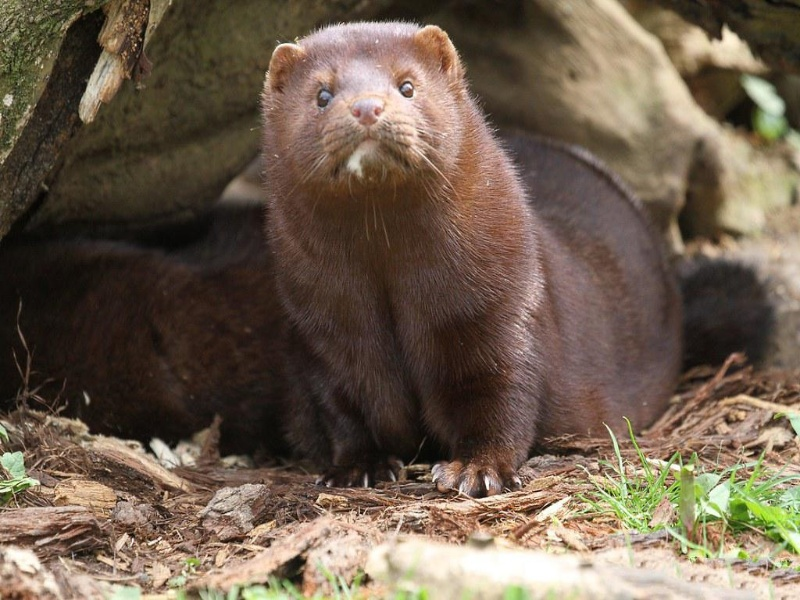minkish: (257, 13, 680, 499)
